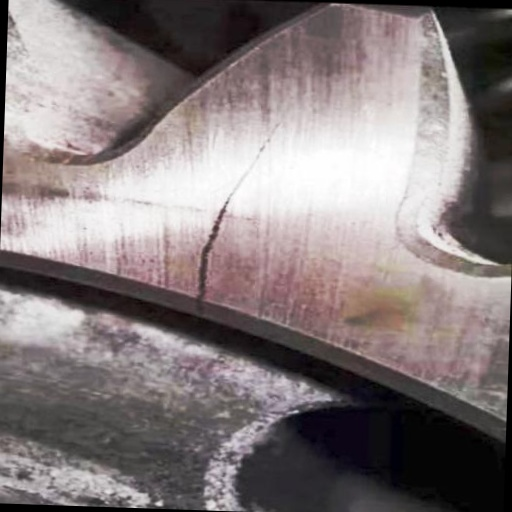crack: (175, 105, 290, 318)
